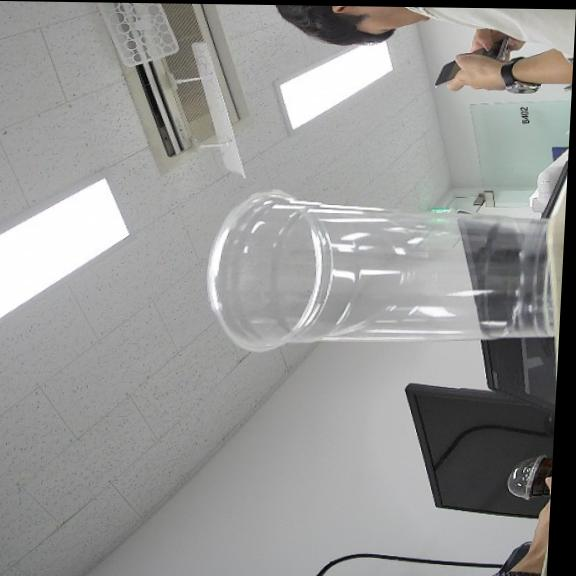Plastik: (209, 190, 553, 351)
